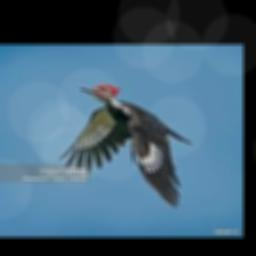Woodpecker: (57, 84, 193, 208)
